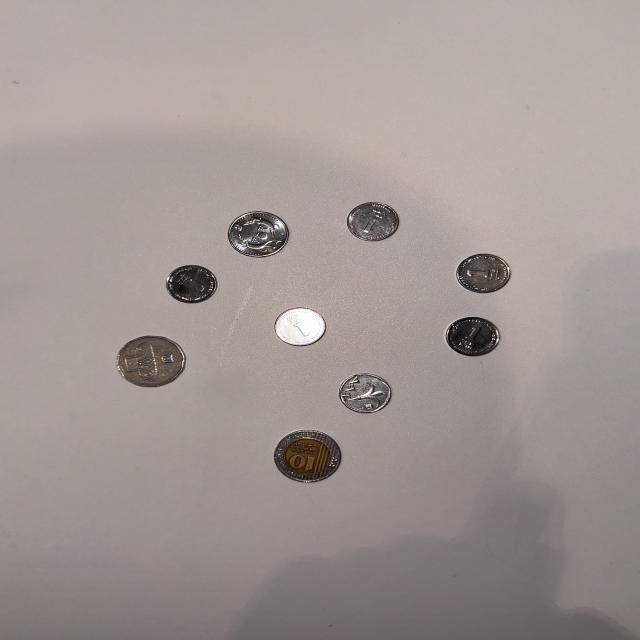1-shekel: (347, 200, 409, 251), (158, 266, 228, 308), (451, 252, 516, 297), (337, 366, 394, 416), (440, 318, 506, 360), (269, 308, 332, 350)
10-shekel: (273, 427, 344, 486)
2-shekel: (225, 209, 298, 262)
5-shekel: (114, 335, 196, 394)
